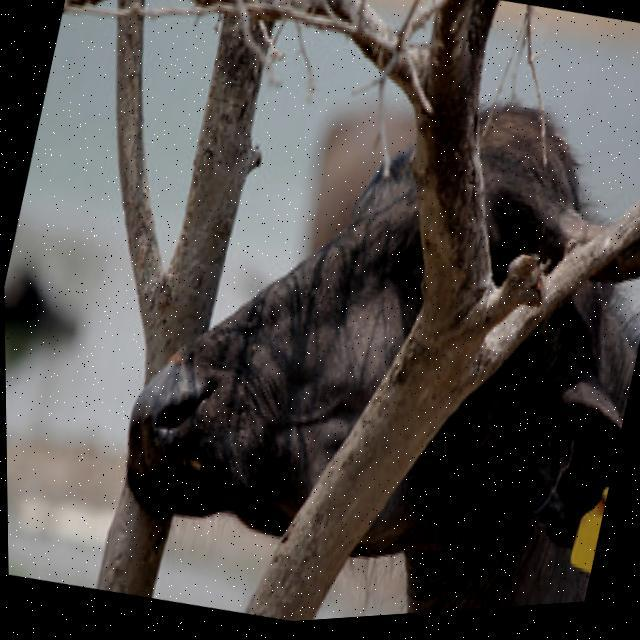Buffalo: (82, 16, 640, 635)
